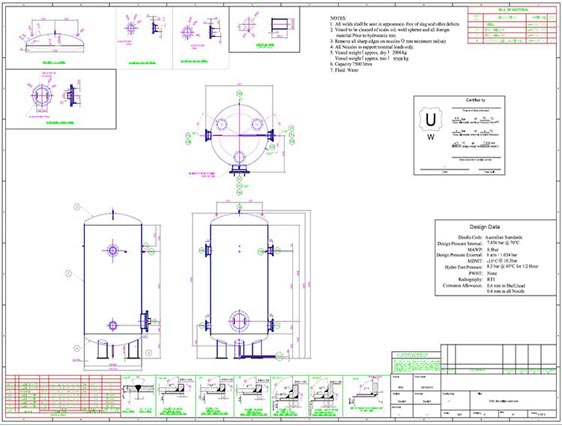nozzle: (204, 16, 229, 45), (134, 308, 158, 335), (258, 124, 280, 148), (193, 239, 217, 261), (261, 238, 282, 261), (226, 161, 255, 177), (199, 313, 219, 335), (262, 313, 280, 336), (203, 125, 219, 146)
